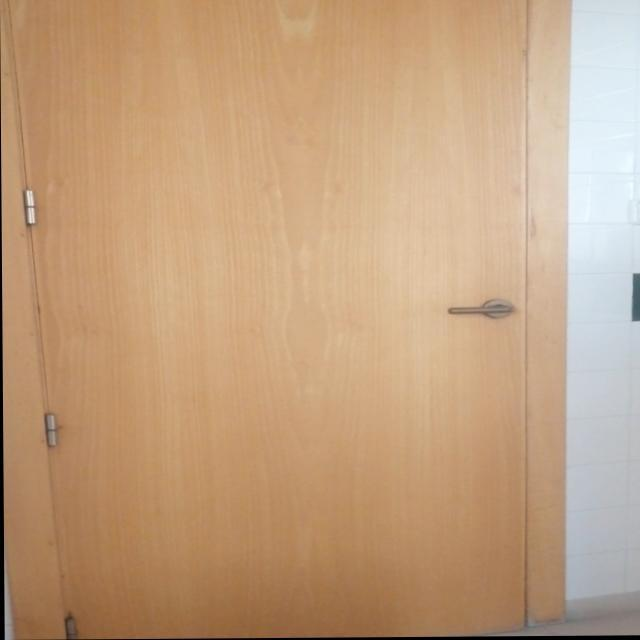door_handle: (444, 305, 518, 317)
